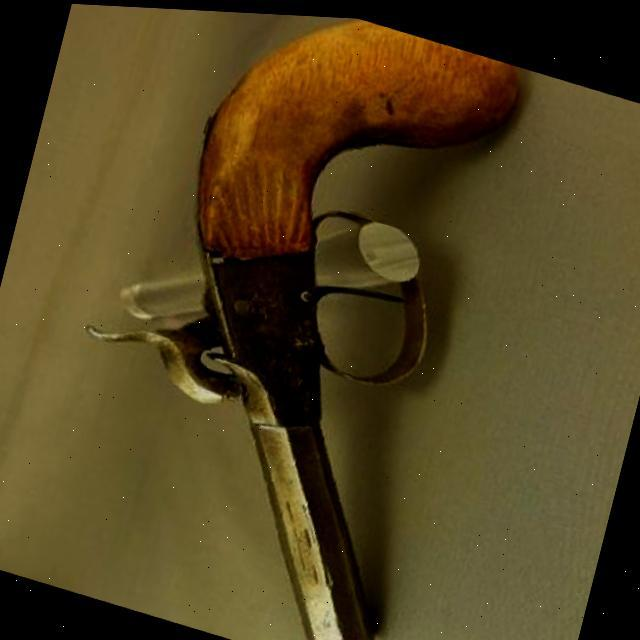gun: (18, 1, 535, 640)
